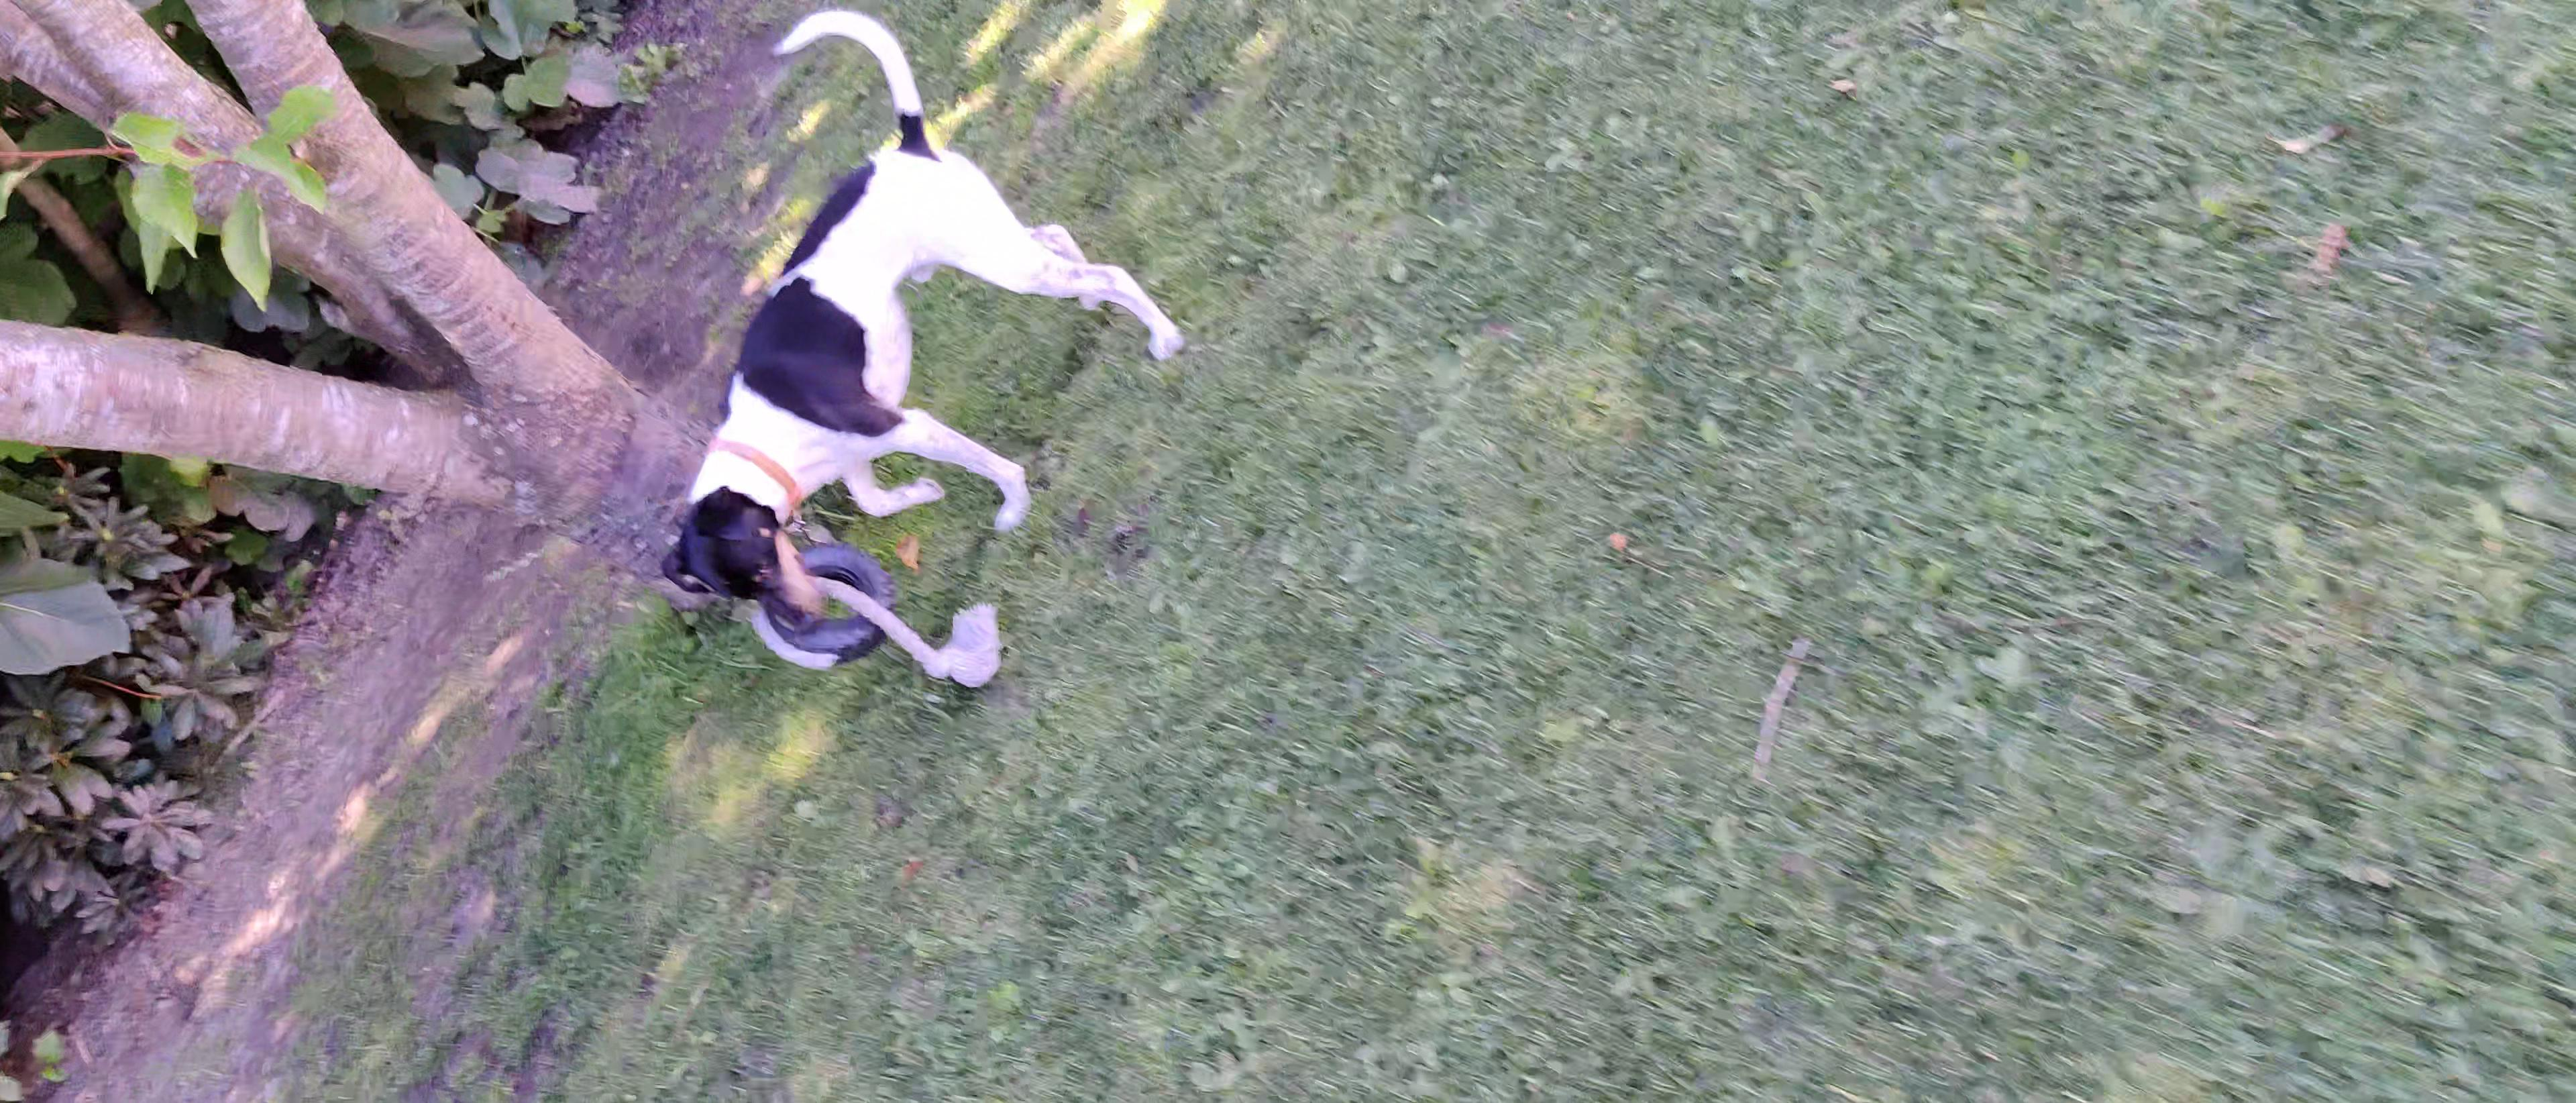Dog: (644, 2, 1194, 636)
